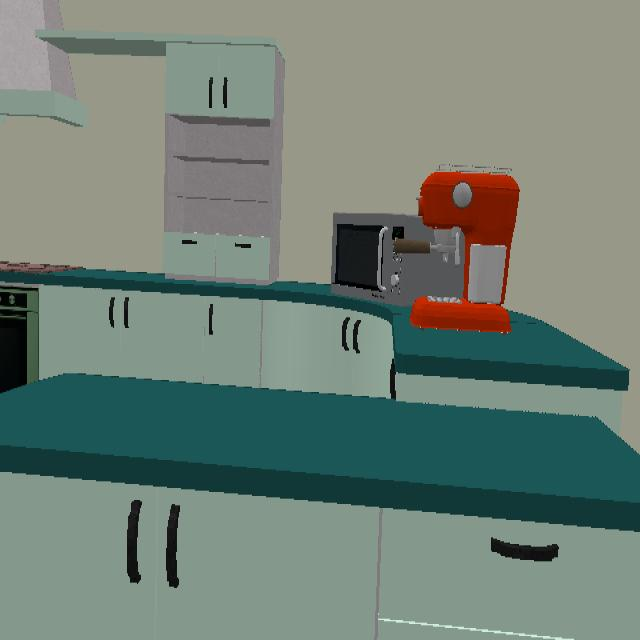cabinet: (35, 29, 286, 287), (38, 285, 394, 397), (396, 373, 623, 436)
countertop: (0, 373, 640, 532), (388, 305, 629, 391), (45, 271, 401, 323), (0, 271, 55, 284)
microwave: (332, 213, 465, 308)
oven: (0, 289, 39, 395)
stove: (0, 253, 72, 275)
